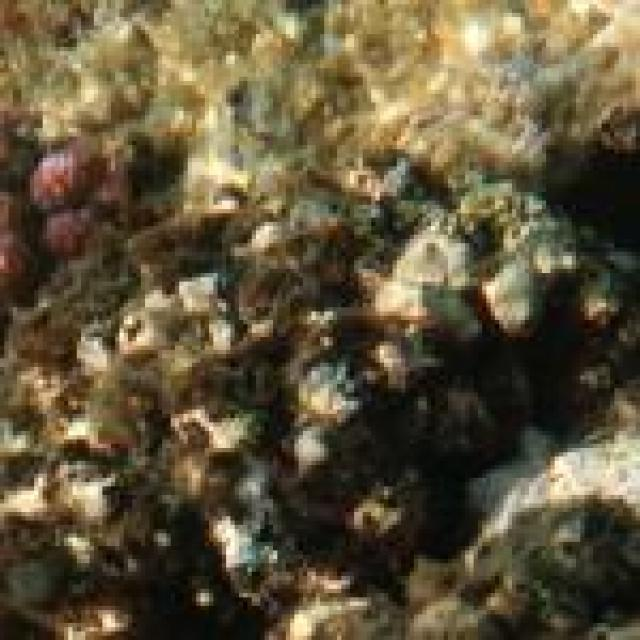Healthy Coral: (0, 129, 162, 291)
